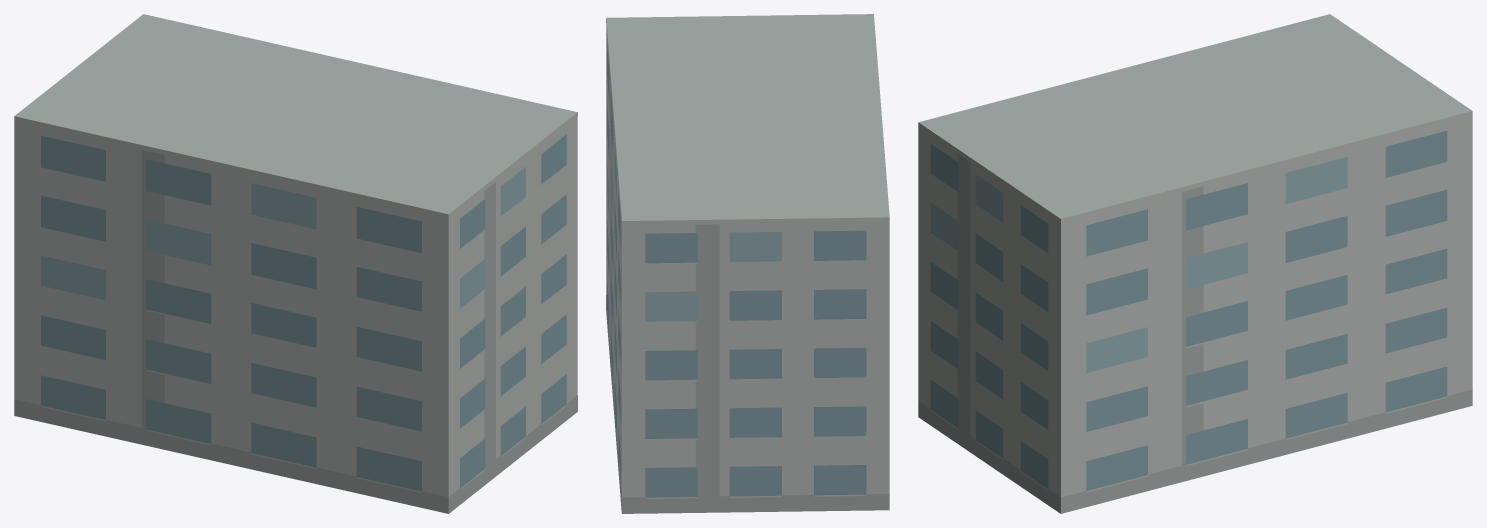
The model's file is residential-5a7b136f-981e-49d6-9c48-d80694d832b4.glb.
The picture shows the model from 3 angles, left to right: view 1: azimuth 30°, elevation 25°; view 2: azimuth 150°, elevation 25°; view 3: azimuth 270°, elevation 25°; orthographic projection. The views are drawn at different scales.
Visible parts, largest first — view 1: residential-5a7b136f-981e-49d6-9c48-d80694d832b4.tmp; view 2: residential-5a7b136f-981e-49d6-9c48-d80694d832b4.tmp; view 3: residential-5a7b136f-981e-49d6-9c48-d80694d832b4.tmp.
Part boxes in pixels (box(x1,y1,x2,y2)): residential-5a7b136f-981e-49d6-9c48-d80694d832b4.tmp: box(14, 14, 577, 513); residential-5a7b136f-981e-49d6-9c48-d80694d832b4.tmp: box(606, 14, 889, 513); residential-5a7b136f-981e-49d6-9c48-d80694d832b4.tmp: box(918, 14, 1472, 513).
Bounding box in the file's own units: 22.74 × 15.25 × 25.98.
